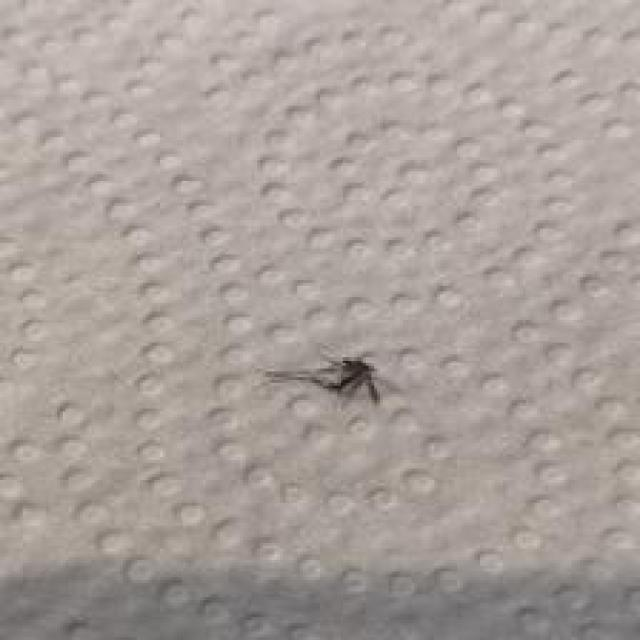Aedes albopictus: (263, 351, 383, 406)
